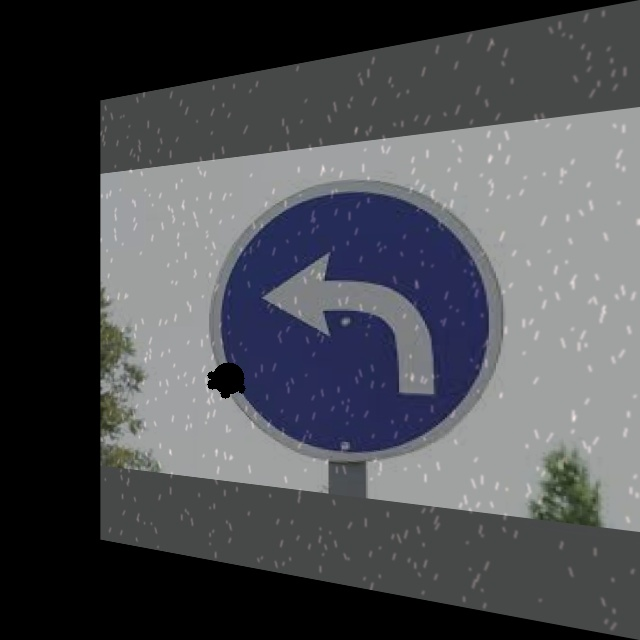Compulsory_Turn_Left_Ahead: (214, 162, 500, 475)
